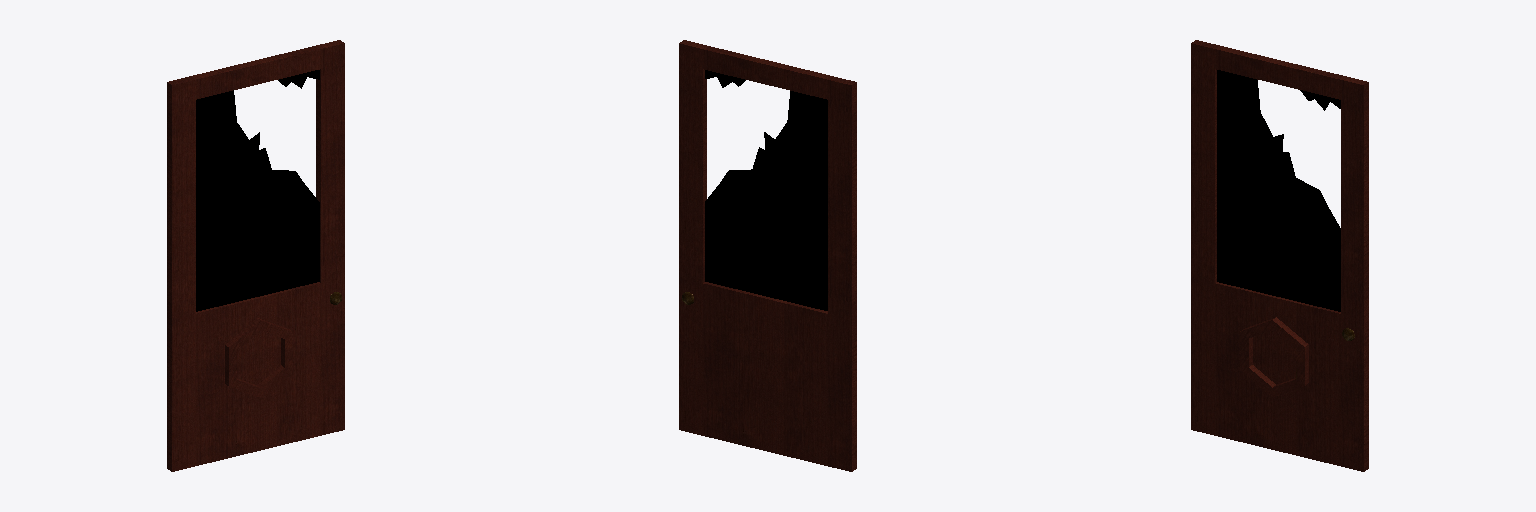
3 views of the same model, side by side, from view 1: azimuth 30°, elevation 25°; view 2: azimuth 150°, elevation 25°; view 3: azimuth 330°, elevation 25° (orthographic).
Parts seen in each view (by area): view 1: L_Door, Door_Glass_02; view 2: L_Door, Door_Glass_02; view 3: L_Door, Door_Glass_02.
Boxes of the visible parts, x1,y1,x2,y2 form: L_Door: [167, 40, 344, 471]; Door_Glass_02: [196, 70, 319, 311]; L_Door: [679, 40, 856, 471]; Door_Glass_02: [705, 70, 827, 310]; L_Door: [1191, 40, 1368, 471]; Door_Glass_02: [1217, 70, 1340, 311].
Size of the model in its own units: 102 by 218 by 15.81.
2 materials, 1 textured.